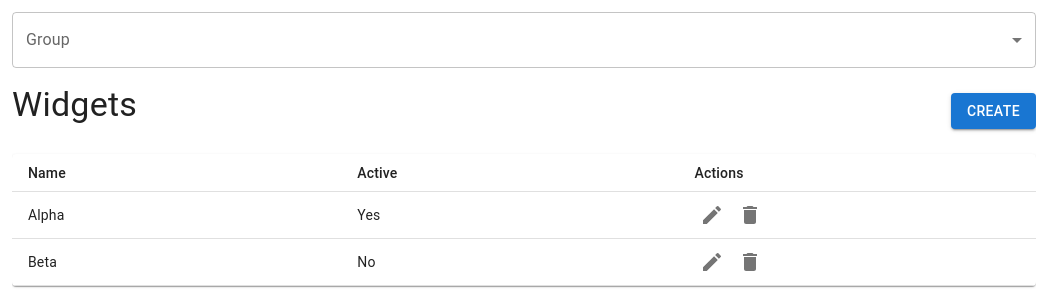
Test: CrudPage › filters rows via the filterBy select
Expected: the text "Alpha" is shown, [28,207,64,223]
Press the mouse on the dropdown at (524, 40), box [12,12,1036,68]
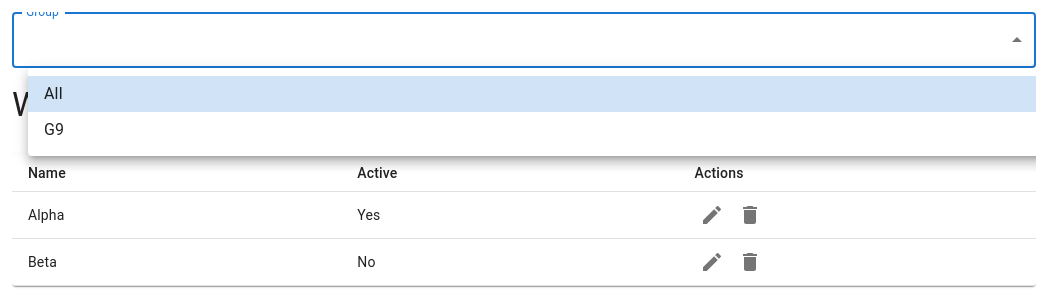
Click the option "G9" at (54, 130), box [44,120,64,139]
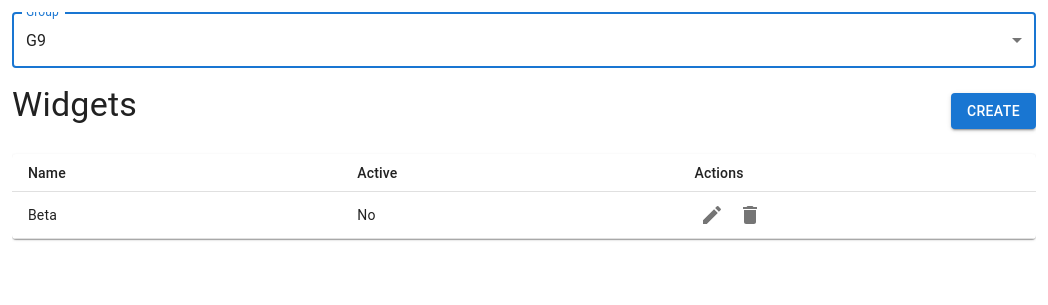
Expected: the text "Beta" is shown, [28,207,57,223]
Expected: the text "Alpha" is gone
